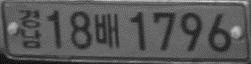1: (126, 10, 150, 51), (44, 9, 66, 49)
6: (207, 12, 231, 53)
7: (153, 11, 176, 51)
8: (69, 10, 92, 49)
9: (179, 11, 202, 52)
경남_V: (19, 8, 42, 49)
배: (94, 12, 120, 49)
